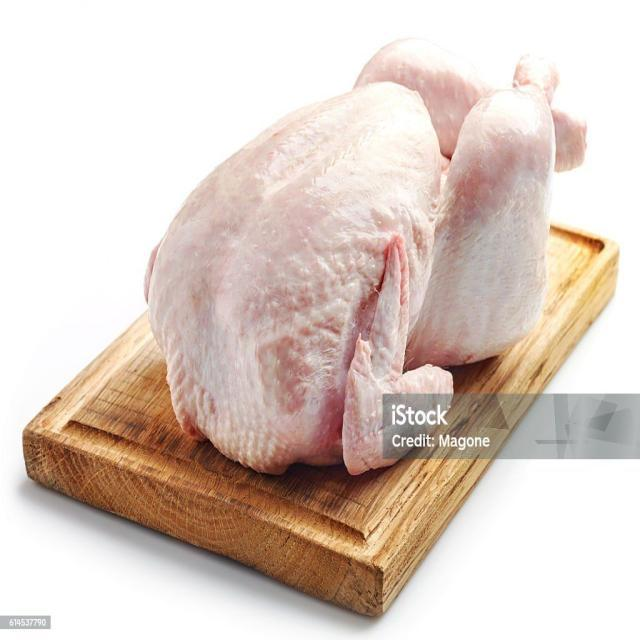Chicken: (121, 19, 604, 476)
